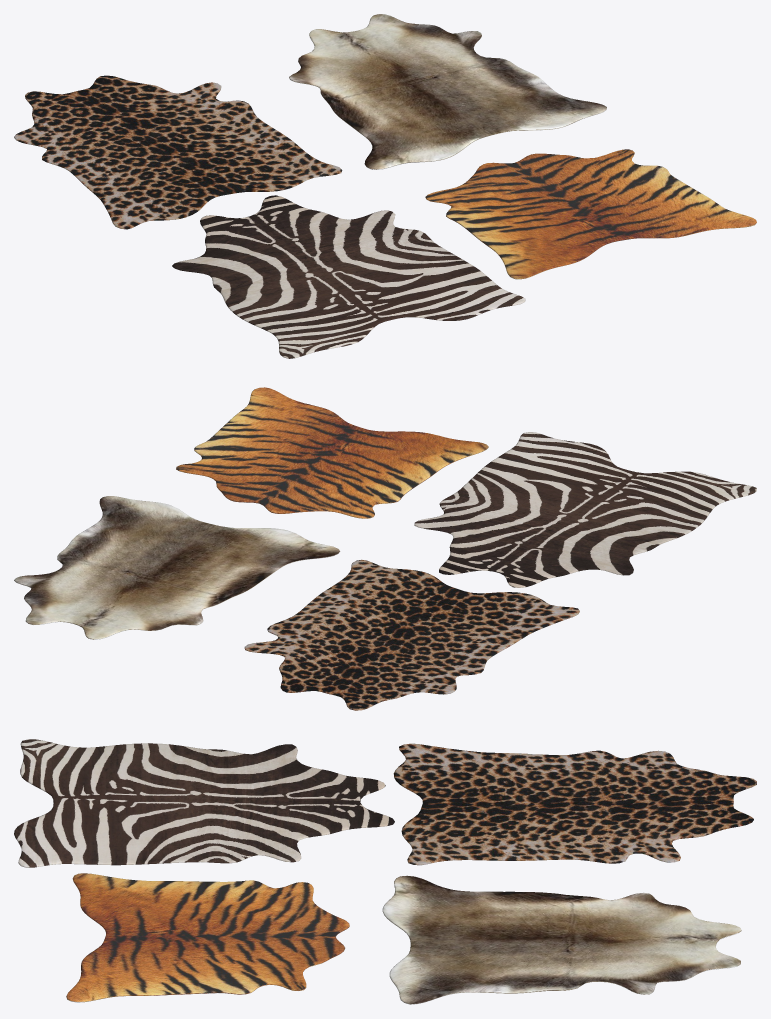
The model's file is skin_rug.FBX.
3 renders of one model, top to bottom at view 1: azimuth 30°, elevation 25°; view 2: azimuth 150°, elevation 25°; view 3: azimuth 270°, elevation 25°, orthographic. The views are drawn at different scales.
Visible parts, largest first — view 1: Large Leather Trim Hide, Black White, Large Dyed Devore Hide, Storm Gold, Large Leather Trim Hide, Beige, Large Leather Trim Hide, Dark Brindle; view 2: Large Leather Trim Hide, Black White, Large Dyed Devore Hide, Storm Gold, Large Leather Trim Hide, Beige, Large Leather Trim Hide, Dark Brindle; view 3: Large Leather Trim Hide, Black White, Large Dyed Devore Hide, Storm Gold, Large Leather Trim Hide, Beige, Large Leather Trim Hide, Dark Brindle.
Part boxes in pixels (x1,y1,x2,y2): Large Leather Trim Hide, Black White: (172,195,525,358); Large Dyed Devore Hide, Storm Gold: (14,75,342,229); Large Leather Trim Hide, Beige: (289,14,606,169); Large Leather Trim Hide, Dark Brindle: (425,149,756,279); Large Leather Trim Hide, Black White: (414,432,756,587); Large Dyed Devore Hide, Storm Gold: (244,559,579,710); Large Leather Trim Hide, Beige: (14,496,340,639); Large Leather Trim Hide, Dark Brindle: (176,387,488,518); Large Leather Trim Hide, Black White: (14,739,394,867); Large Dyed Devore Hide, Storm Gold: (393,743,756,865); Large Leather Trim Hide, Beige: (382,875,741,1004); Large Leather Trim Hide, Dark Brindle: (66,873,349,1002).
Bounding box in the file's own units: 2904 × 6 × 3447.
